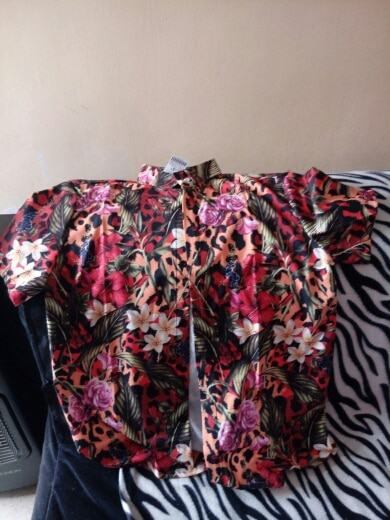shirts: (31, 163, 370, 472)
